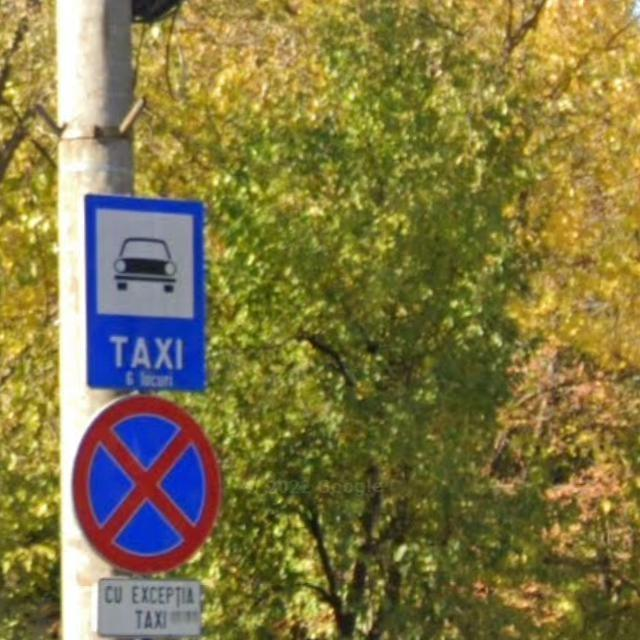forb_waiting: (71, 396, 220, 575)
